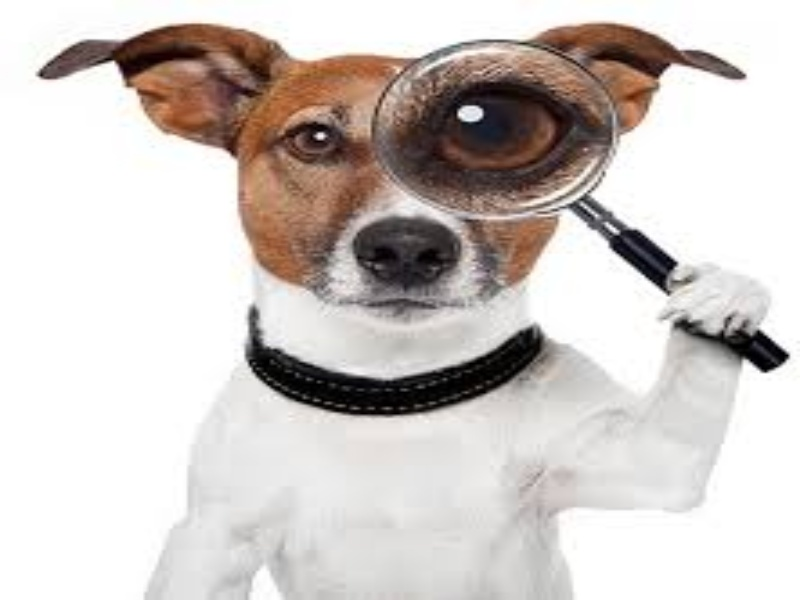dog: (35, 13, 783, 600)
